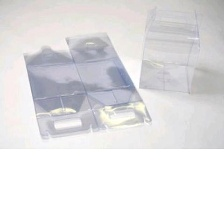plastic_box: (15, 24, 158, 142), (133, 0, 209, 98)
